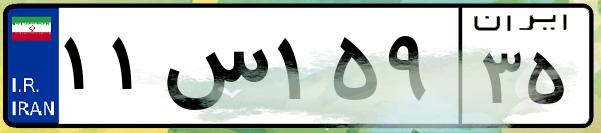1: (270, 28, 330, 110), (57, 26, 110, 100), (110, 28, 158, 98)
3: (475, 38, 525, 113)
5: (330, 28, 385, 110), (525, 38, 570, 115)
9: (385, 28, 445, 110)
س: (158, 20, 270, 120)
